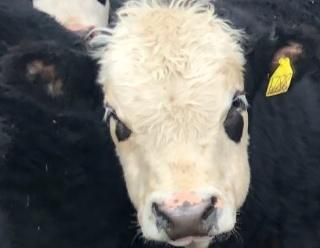muzzles: (138, 192, 241, 244)
